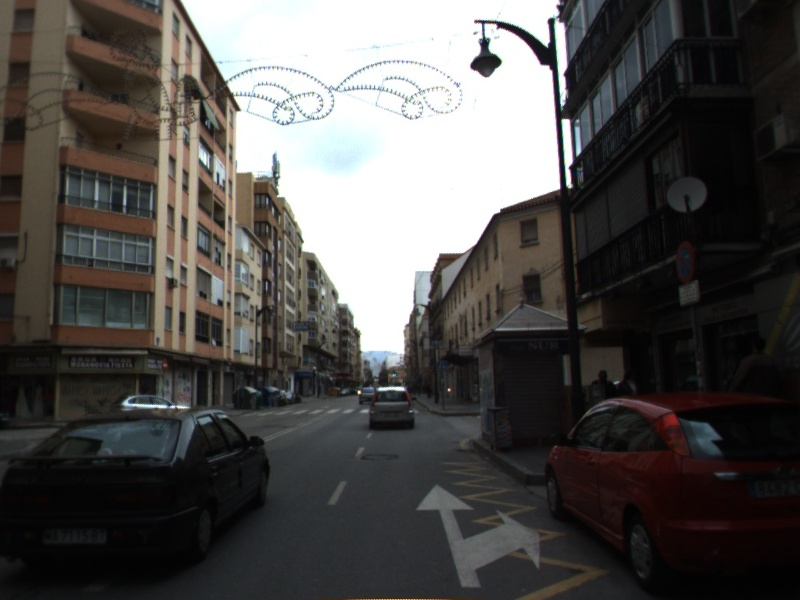STRAIGHT_RIGHT: (413, 480, 543, 591)
